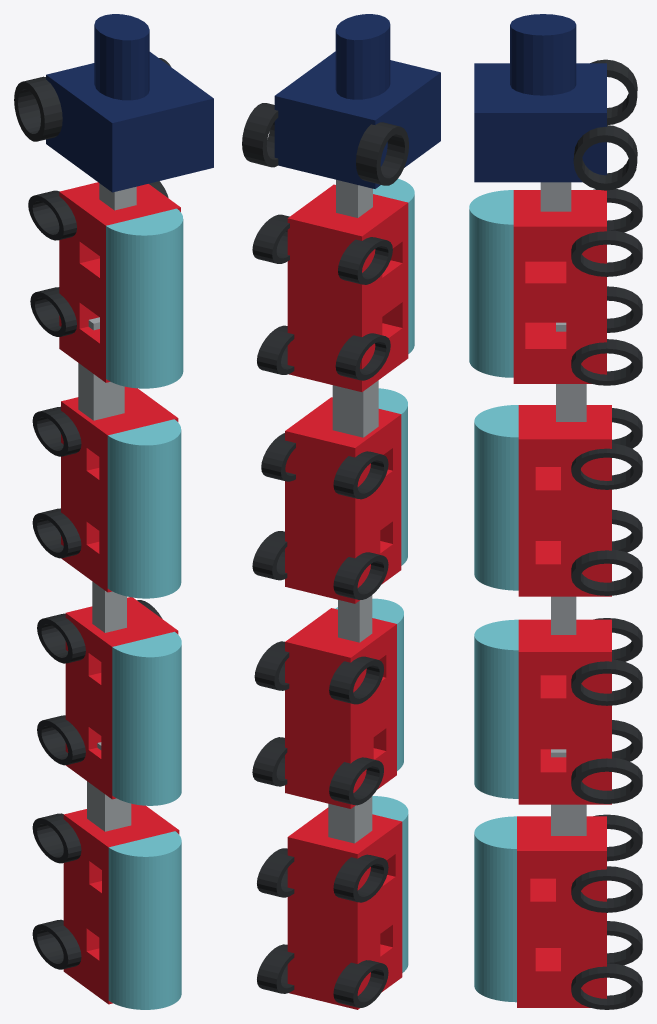
Rendered from tinker.obj.
3 views of the same model, side by side, from view 1: azimuth 30°, elevation 25°; view 2: azimuth 150°, elevation 25°; view 3: azimuth 270°, elevation 25° (orthographic).
Parts seen in each view (by area): view 1: group_0_7720667, group_0_15277357, group_0_1650274, group_0_2829873, group_0_10988977; view 2: group_0_15277357, group_0_2829873, group_0_1650274, group_0_7720667, group_0_10988977; view 3: group_0_15277357, group_0_7720667, group_0_2829873, group_0_1650274, group_0_10988977.
Part boxes in pixels (x1=…): group_0_7720667: x1=106, y1=208, x2=183, y2=1009; group_0_15277357: x1=59, y1=182, x2=180, y2=1004; group_0_1650274: x1=46, y1=14, x2=213, y2=192; group_0_2829873: x1=14, y1=58, x2=170, y2=969; group_0_10988977: x1=78, y1=183, x2=136, y2=831; group_0_15277357: x1=285, y1=184, x2=408, y2=1009; group_0_2829873: x1=242, y1=103, x2=408, y2=1007; group_0_1650274: x1=274, y1=14, x2=440, y2=188; group_0_7720667: x1=335, y1=178, x2=414, y2=972; group_0_10988977: x1=328, y1=179, x2=378, y2=843; group_0_15277357: x1=513, y1=190, x2=611, y2=1007; group_0_7720667: x1=469, y1=190, x2=518, y2=1002; group_0_2829873: x1=571, y1=59, x2=642, y2=1009; group_0_1650274: x1=474, y1=14, x2=606, y2=182; group_0_10988977: x1=540, y1=182, x2=586, y2=835.
Bounding box in the file's own units: 31 × 208 × 34.
